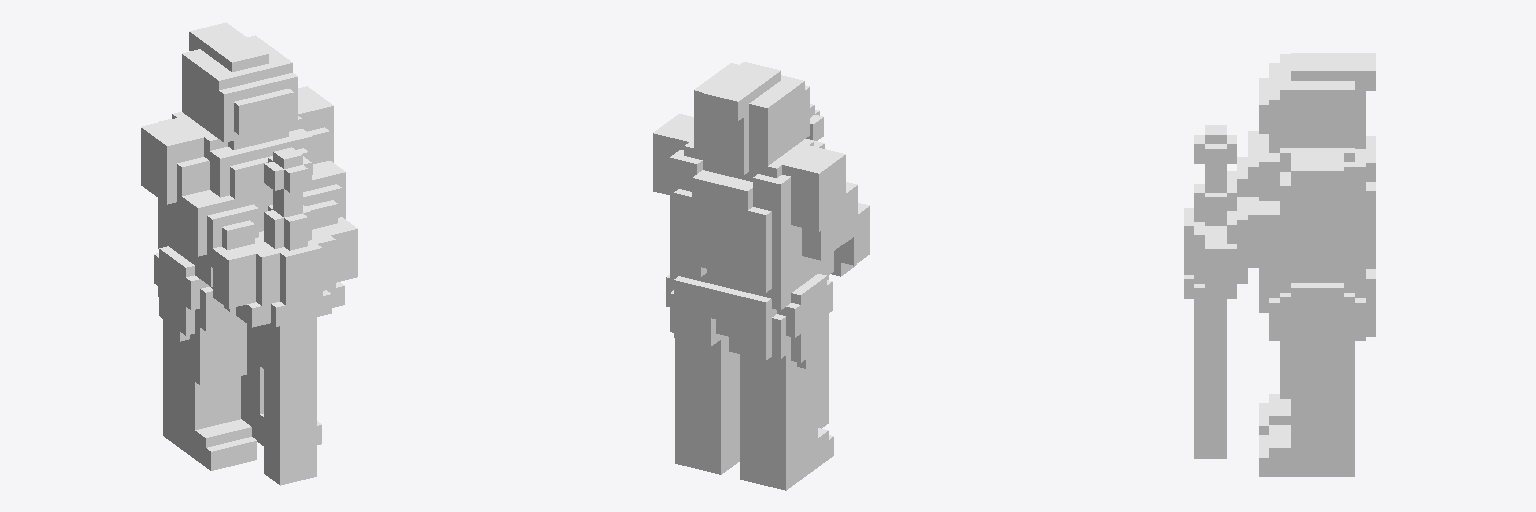
File: Tilemap_Deco_C0_P007.obj
3 renders of one model, left to right at view 1: azimuth 30°, elevation 25°; view 2: azimuth 150°, elevation 25°; view 3: azimuth 270°, elevation 25°, orthographic.
Visible parts, largest first — view 1: object 1; view 2: object 1; view 3: object 1.
Part boxes in pixels (bbox=[...]): object 1: bbox=[141, 22, 357, 485]; object 1: bbox=[653, 62, 869, 490]; object 1: bbox=[1184, 53, 1375, 476].
Bounding box in the file's own units: 1.8 × 4 × 1.8.